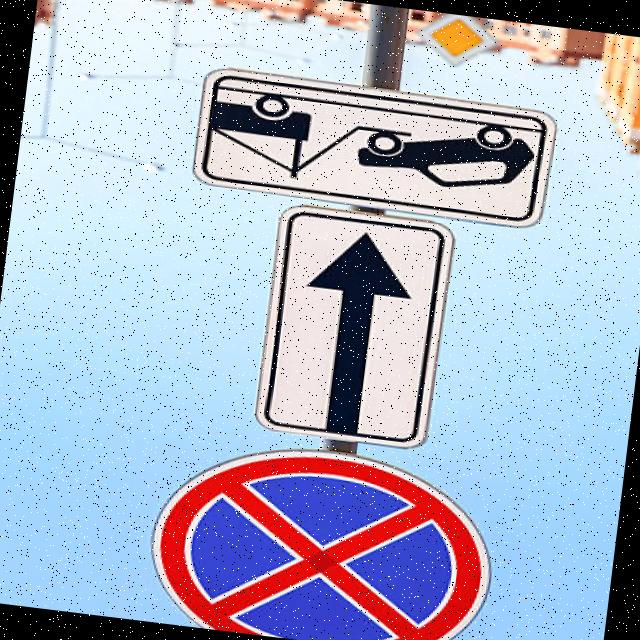no_parking: (124, 425, 503, 640)
